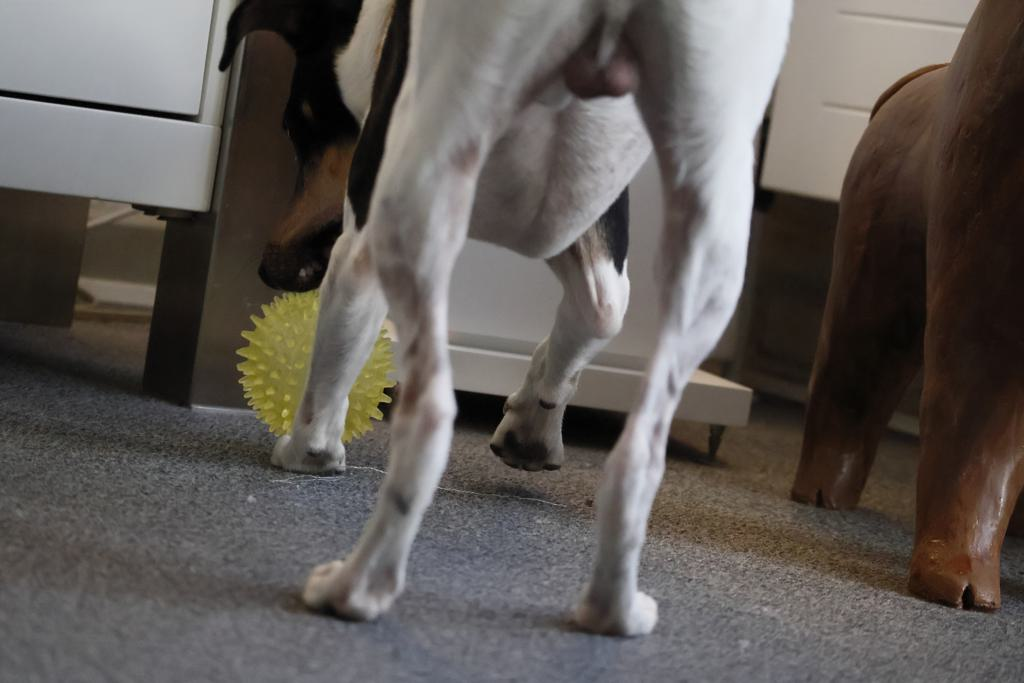Cattle: (768, 0, 1024, 623)
Dog: (210, 0, 797, 643)
